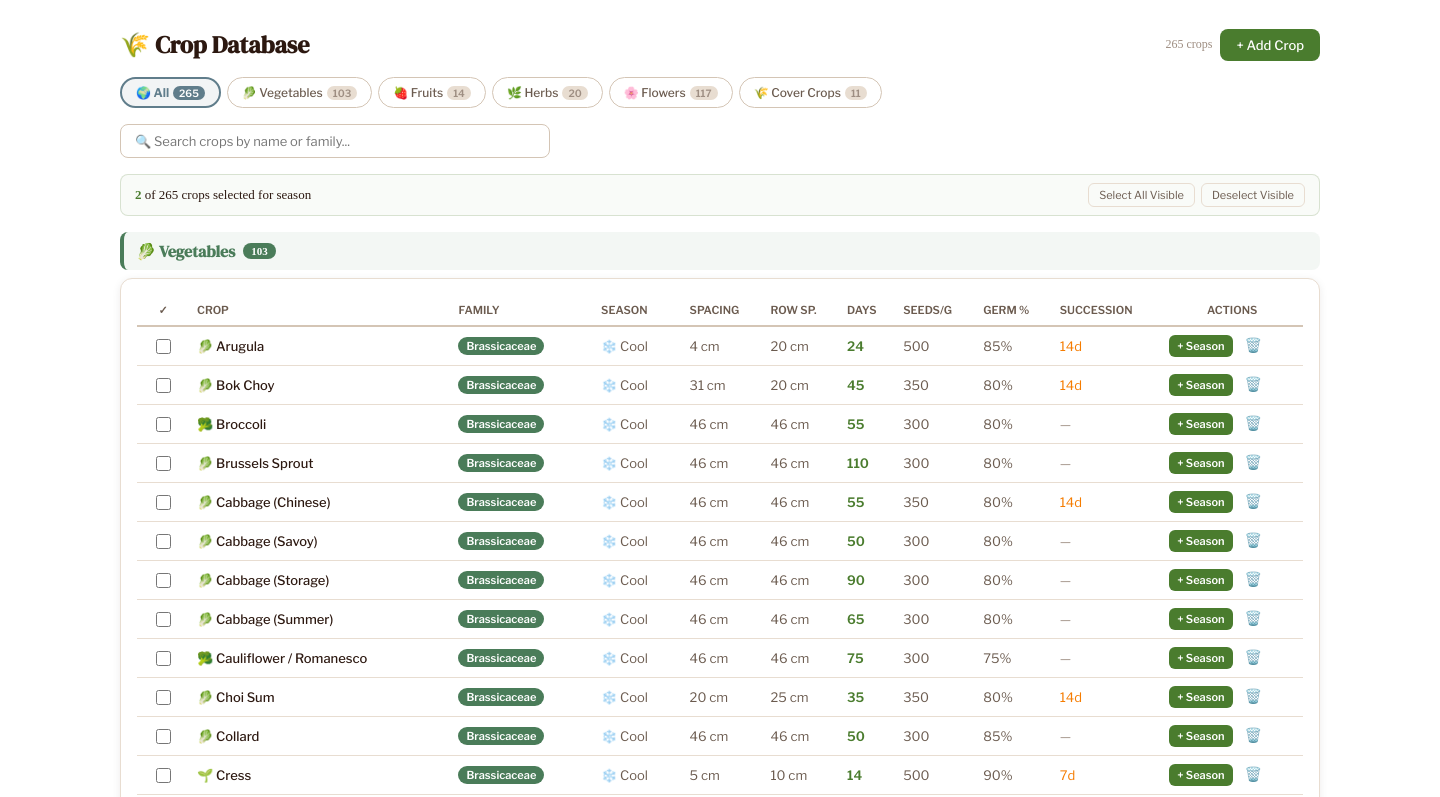
Scenario: CropsTab › searches by family name
Type "Solanaceae" into the field with placeholder "🔍 Search crops by name or family...".
click(335, 141); type("Solanaceae")  # box x1=120 y1=124 x2=550 y2=158
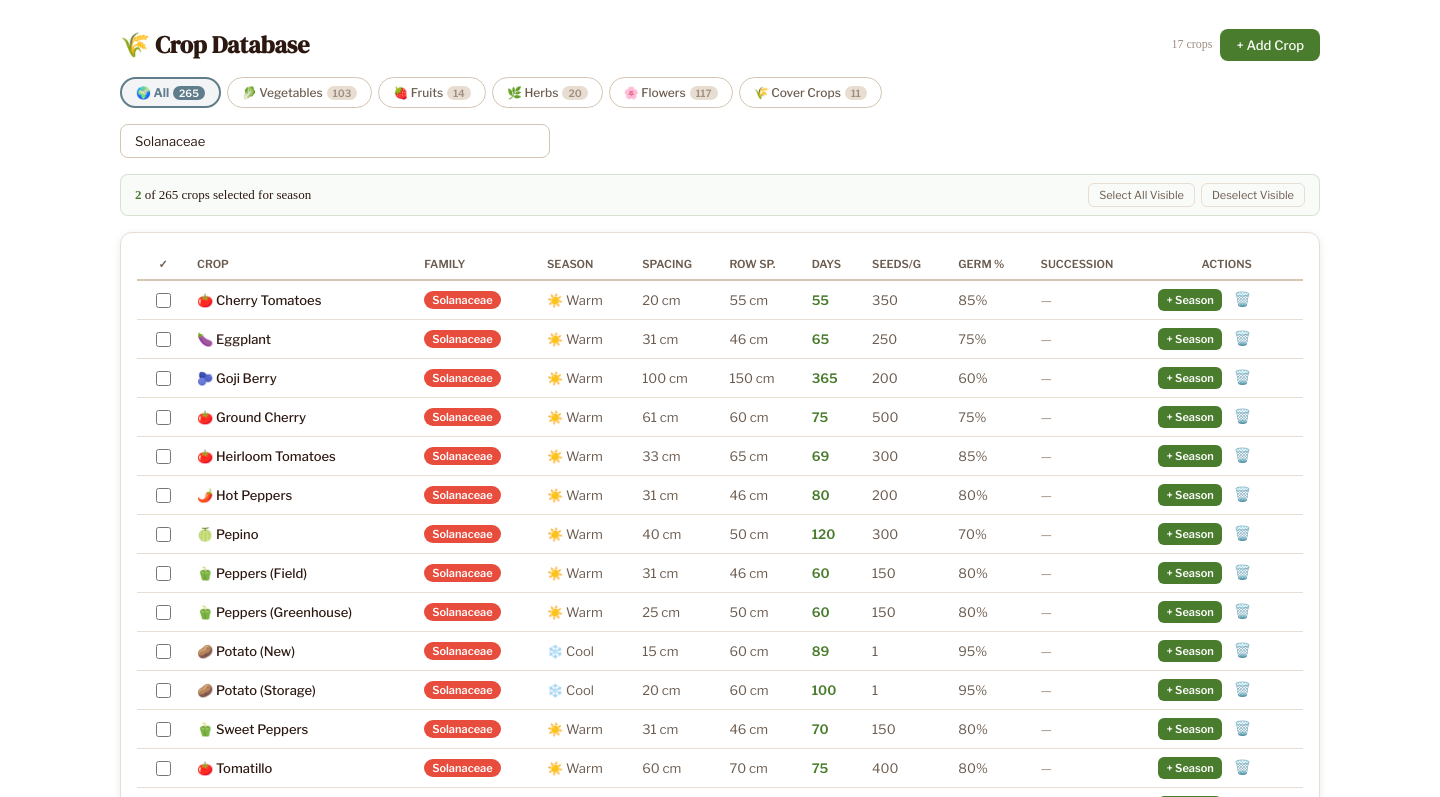
expect the text "Solanaceae" next to "Cherry Tomatoes" is shown: met, box x1=432 y1=293 x2=493 y2=307
expect the text "Broccoli" is gone: met
